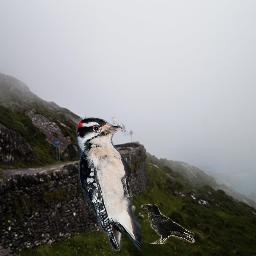Crow: (141, 204, 195, 244)
Woodpecker: (76, 117, 141, 251)
